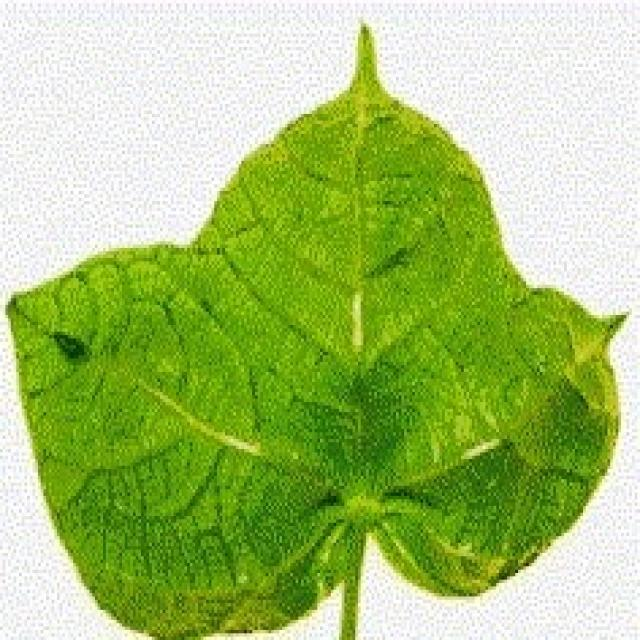Leaf Curl Virus: (187, 218, 507, 508)
